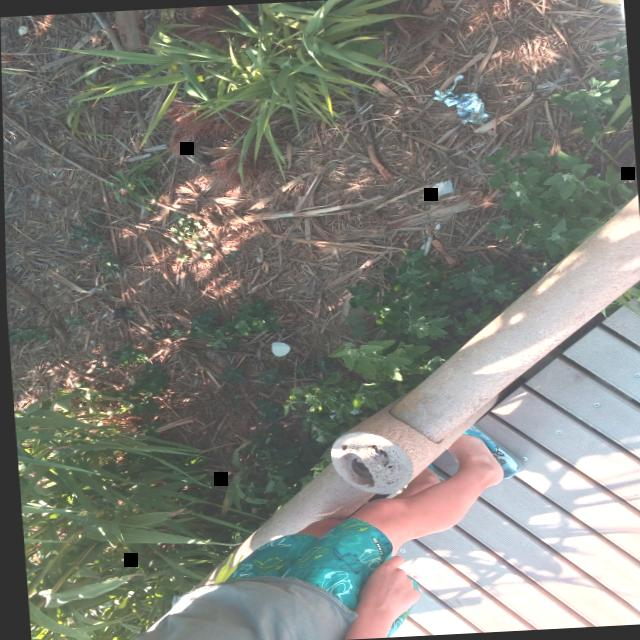Other plastic: (432, 74, 487, 124)
Plastic film: (425, 179, 451, 197)
Unlabeled litter: (269, 341, 288, 355)
